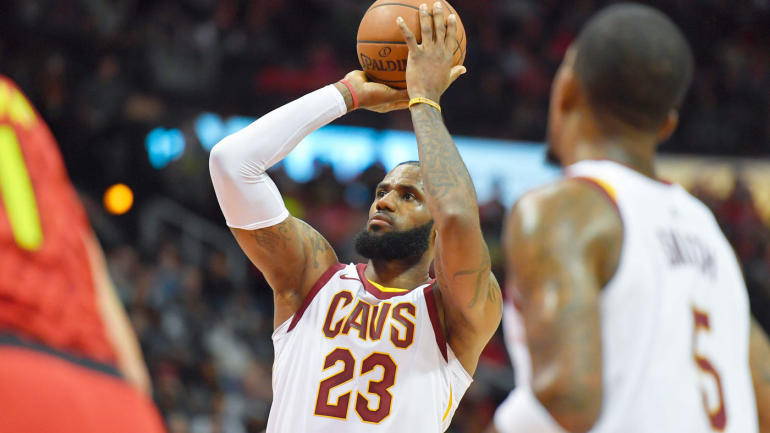Basketball: (354, 1, 471, 94)
